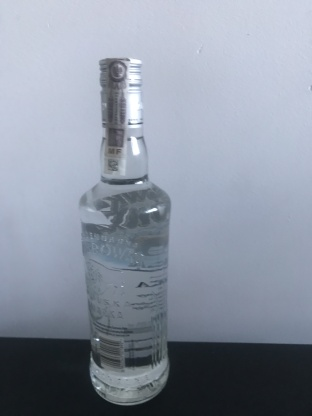nakretka: (96, 53, 146, 131)
